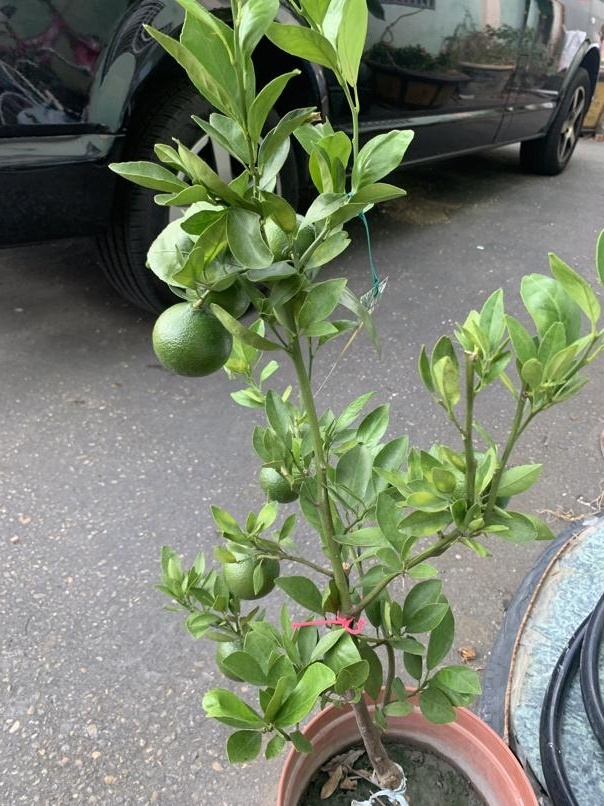Tangerine: (152, 300, 236, 377)
